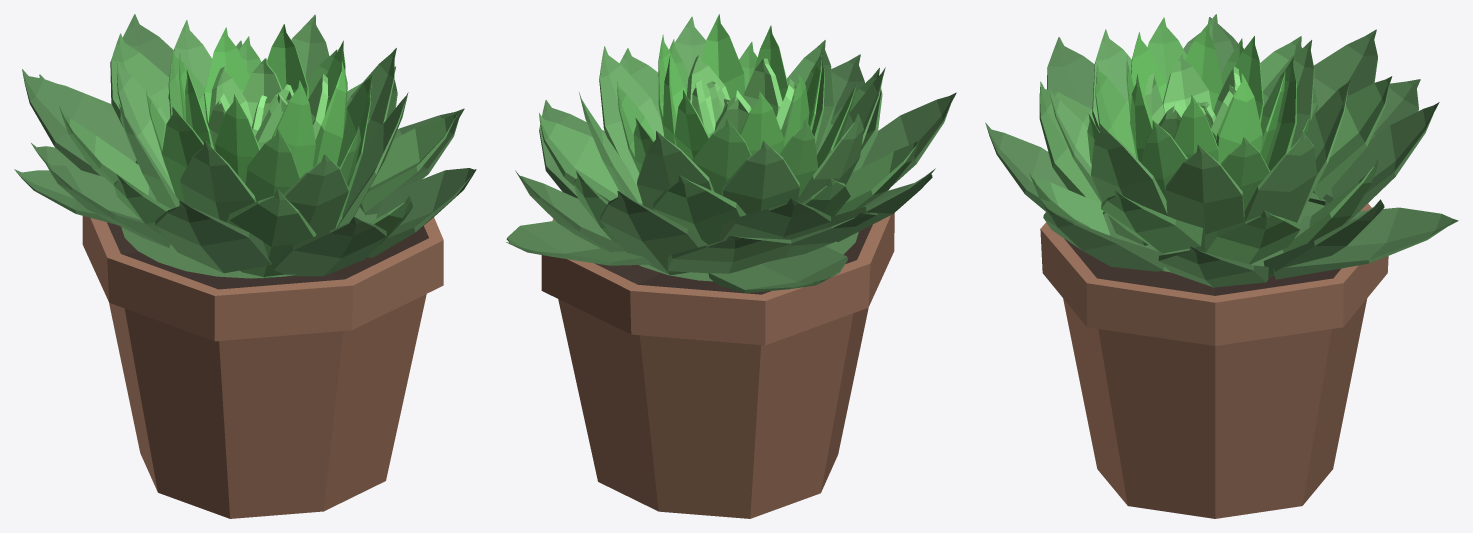
Rendered from terrarium.glb.
The picture shows the model from 3 angles, left to right: view 1: azimuth 30°, elevation 25°; view 2: azimuth 150°, elevation 25°; view 3: azimuth 270°, elevation 25°; orthographic projection. The views are drawn at different scales.
Visible parts, largest first — view 1: pCube48, pCube45, pCube49; view 2: pCube48, pCube45, pCube49, pCube50; view 3: pCube48, pCube45, pCube50.
Part boxes in pixels (x1,y1,x2,y2): pCube48: (22, 14, 476, 278); pCube45: (82, 216, 443, 518); pCube49: (14, 169, 116, 224); pCube48: (515, 14, 956, 281); pCube45: (541, 213, 894, 518); pCube49: (708, 246, 847, 293); pCube50: (506, 220, 651, 265); pCube48: (985, 14, 1439, 287); pCube45: (1040, 203, 1388, 518); pCube50: (1273, 207, 1458, 279).
Size of the model in its own units: 4.03 by 4.01 by 4.16.
